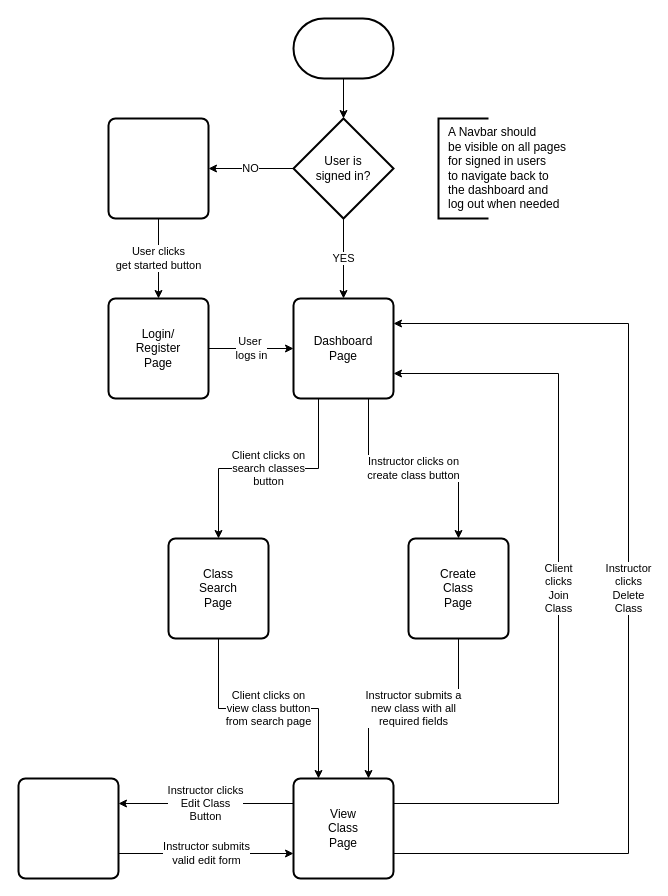
This 668x896 diagram has some shape labels left out. Here are the shapes that lost their labels. From the top down, the centre of each, then its label:
At pixel 343 48: "Start".
At pixel 158 168: "Landing Page".
At pixel 68 828: "Edit Class Page".
